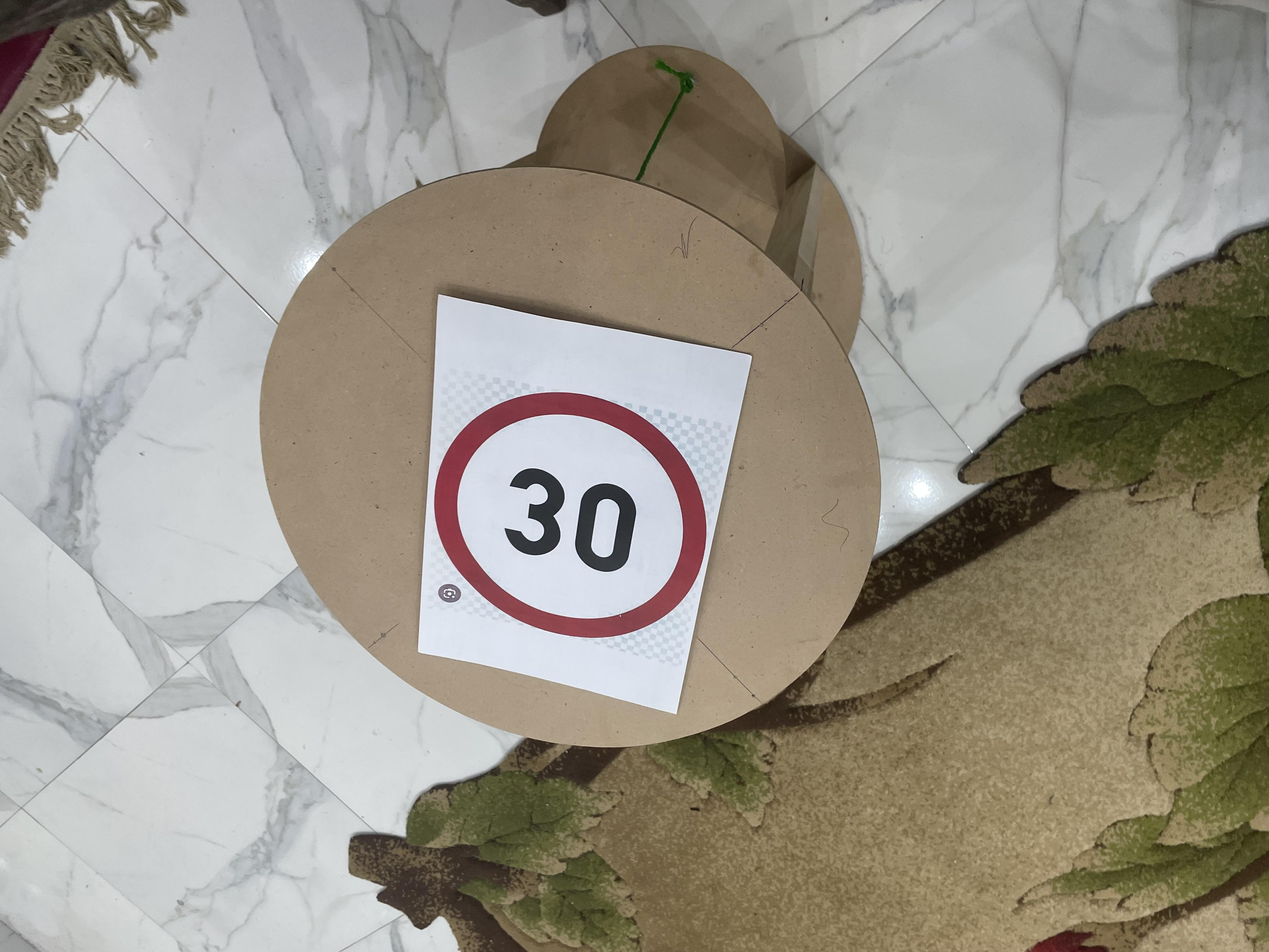30-speed: (565, 303, 842, 560)
